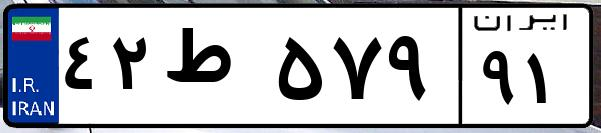1: (525, 38, 570, 115)
2: (110, 28, 158, 98)
4: (57, 26, 110, 100)
5: (270, 28, 330, 110)
7: (330, 28, 385, 110)
9: (385, 28, 445, 110), (475, 38, 525, 113)
ط: (158, 20, 270, 120)
